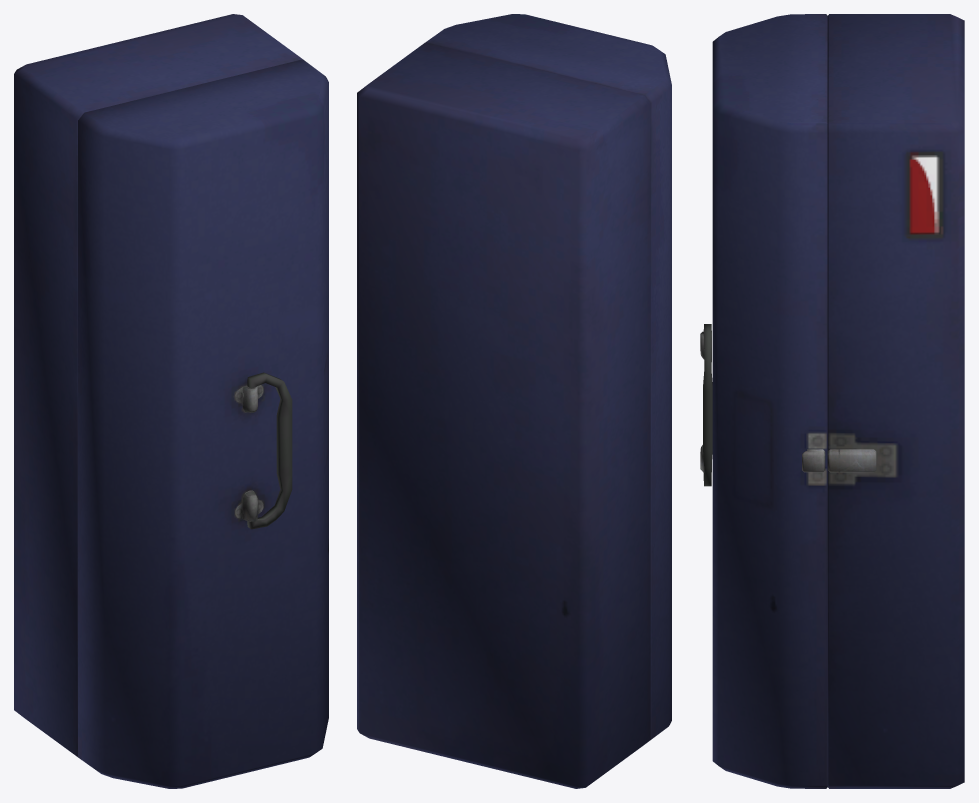
File: p6_industrial_toolbox_static_LOD0.obj
3 renders of one model, left to right at view 1: azimuth 30°, elevation 25°; view 2: azimuth 150°, elevation 25°; view 3: azimuth 270°, elevation 25°, orthographic. The views are drawn at different scales.
Parts seen in each view (by area): view 1: mtl_p_test_karma_toolbox; view 2: mtl_p_test_karma_toolbox; view 3: mtl_p_test_karma_toolbox.
Part boxes in pixels (box(x1,y1,x2,y2)): mtl_p_test_karma_toolbox: box(14, 14, 328, 788); mtl_p_test_karma_toolbox: box(357, 14, 671, 788); mtl_p_test_karma_toolbox: box(700, 14, 964, 788).
Bounding box in the file's own units: 25.02 × 64.77 × 23.3.
